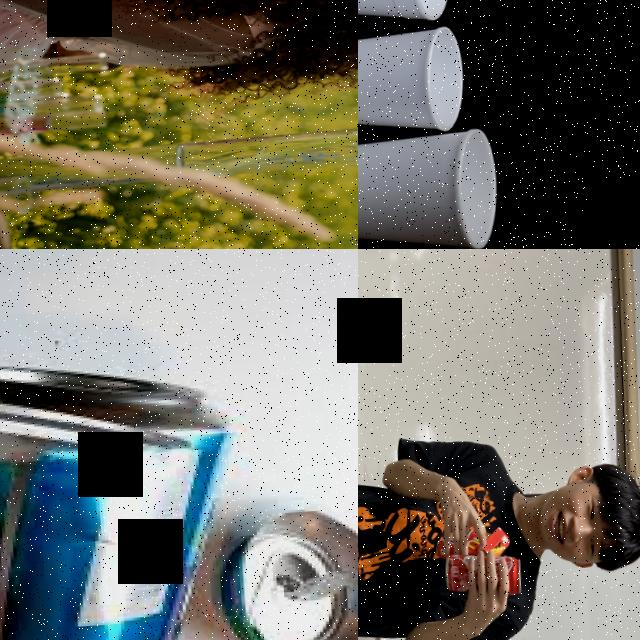can: (440, 548, 523, 599)
cup: (358, 126, 498, 249), (358, 25, 468, 148)
